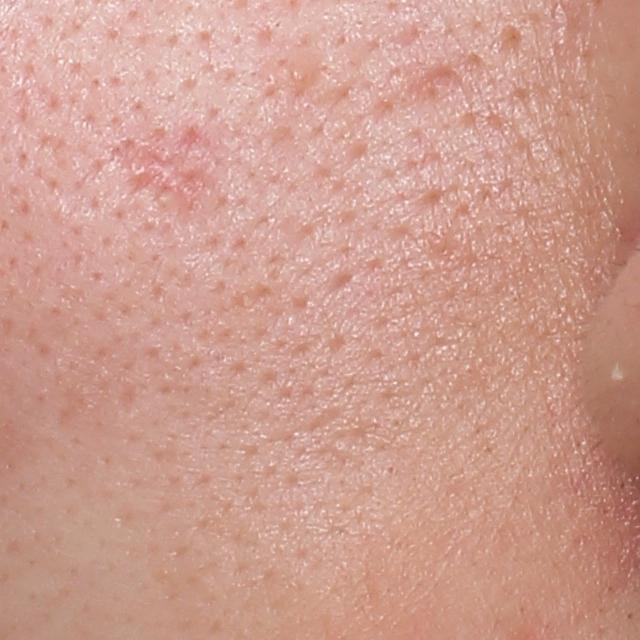atrophic_scar: (109, 129, 212, 215), (398, 68, 464, 107), (497, 20, 529, 62)
comedo: (284, 57, 320, 88)
